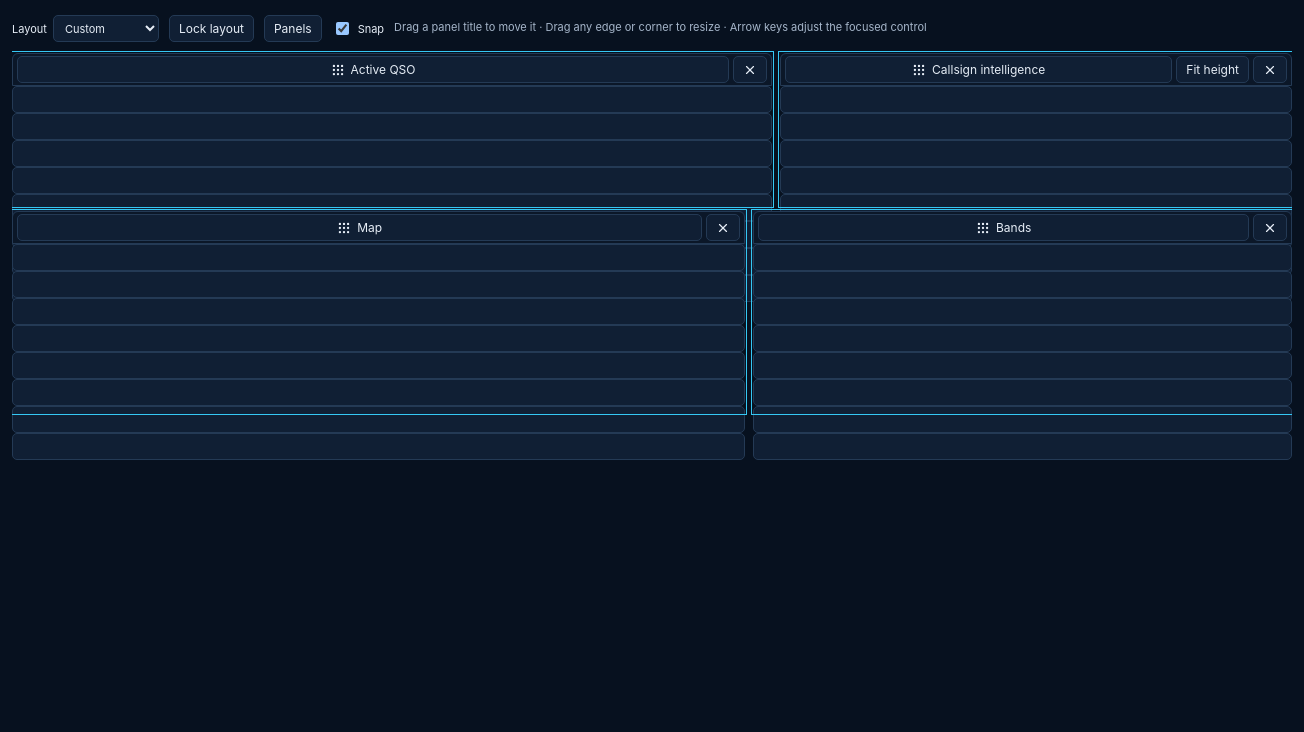
Test: hides and restores a panel, then removes edit handles when locked
Press ArrowRight in the button "Map", box top-left (17, 214), bottom-right (702, 241)
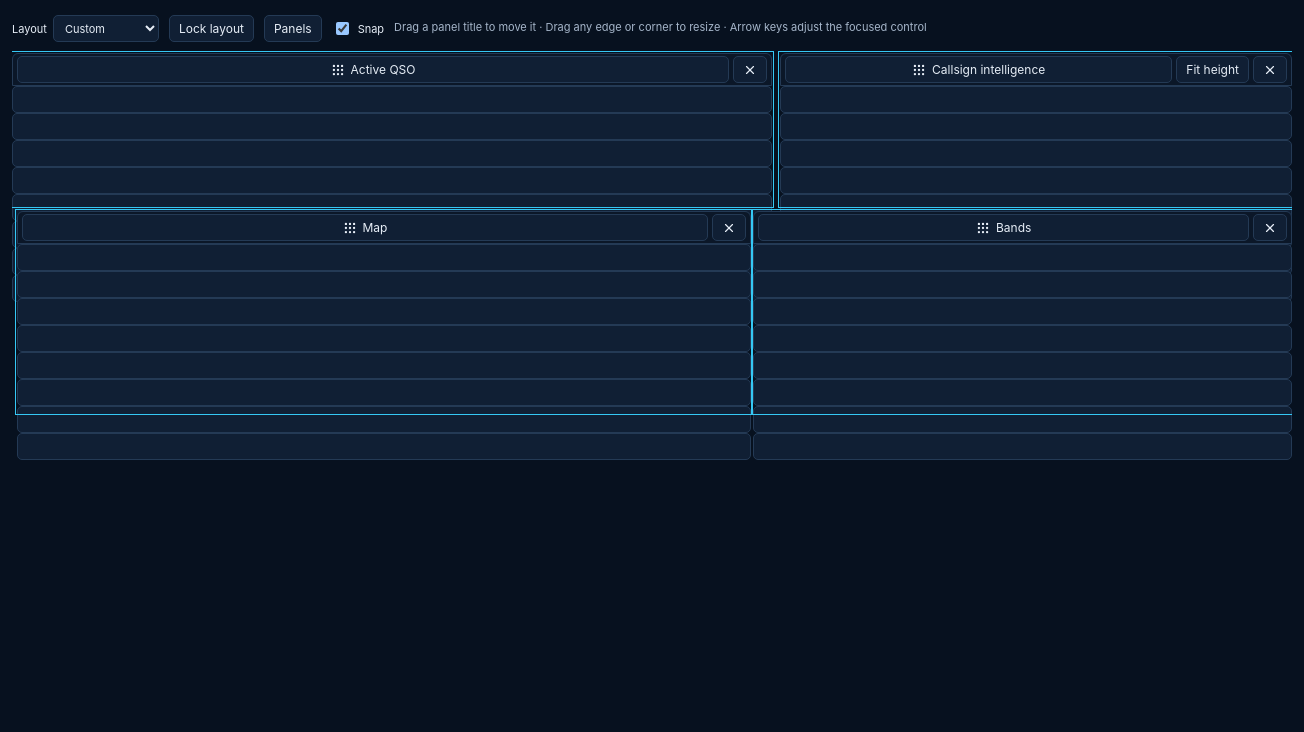
Click the button named "Hide Map": coordinates (729, 228) top-left (712, 214), bottom-right (746, 241)
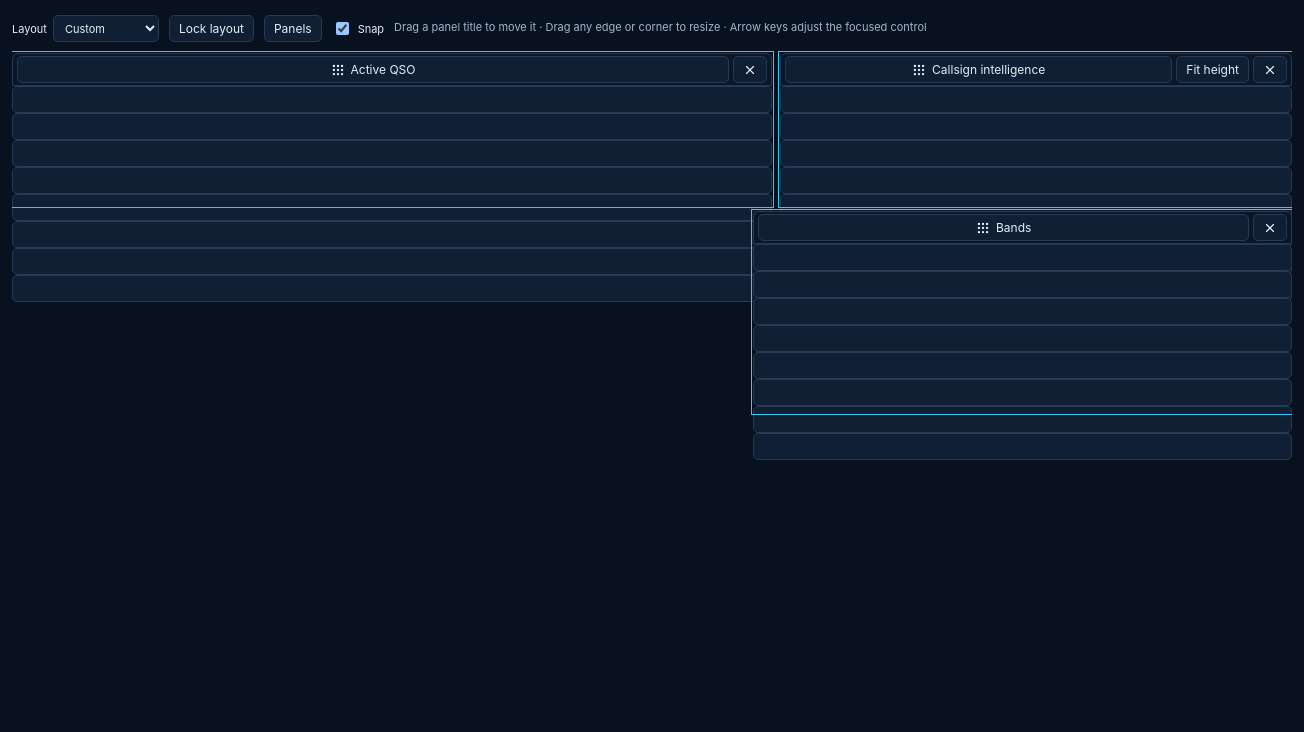
Expected: the text "Map surface" is gone
Click the button "Panels": coordinates (293, 28) top-left (264, 15), bottom-right (322, 42)
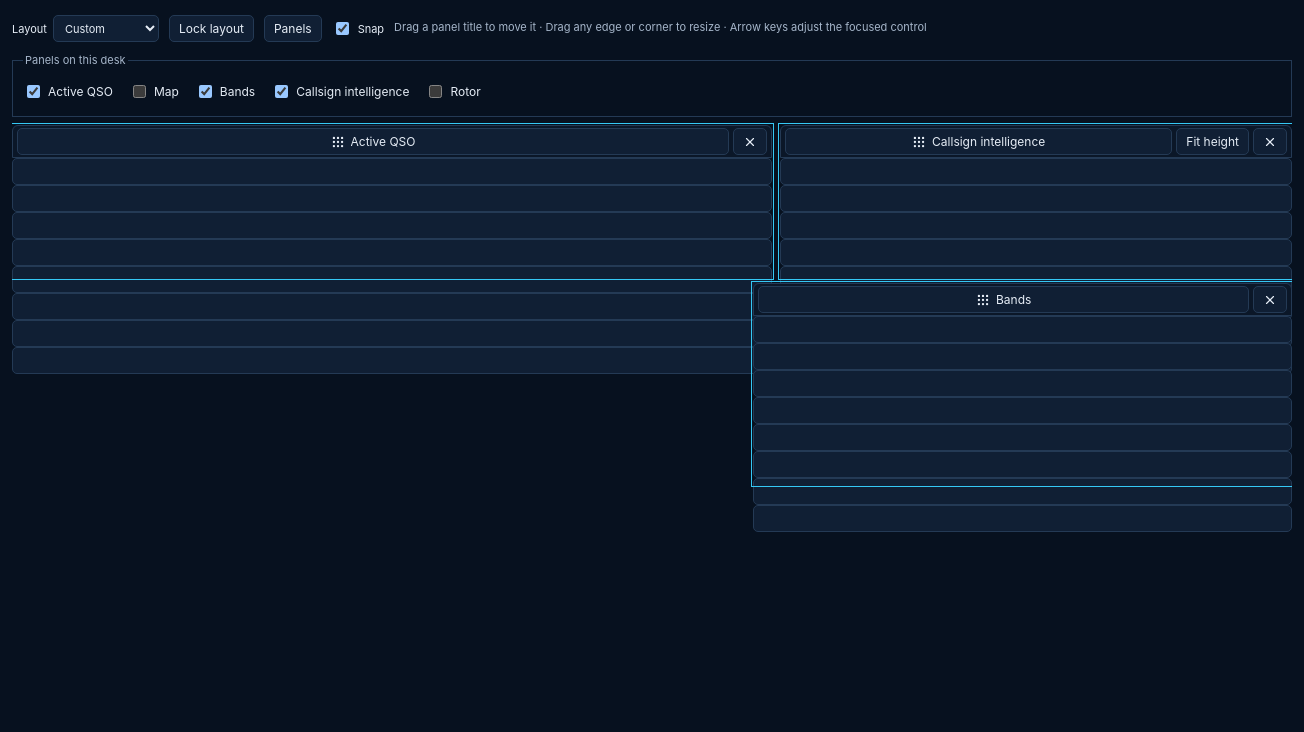
Click the checkbox labelled "Map": coordinates (139, 92) top-left (133, 78), bottom-right (146, 105)
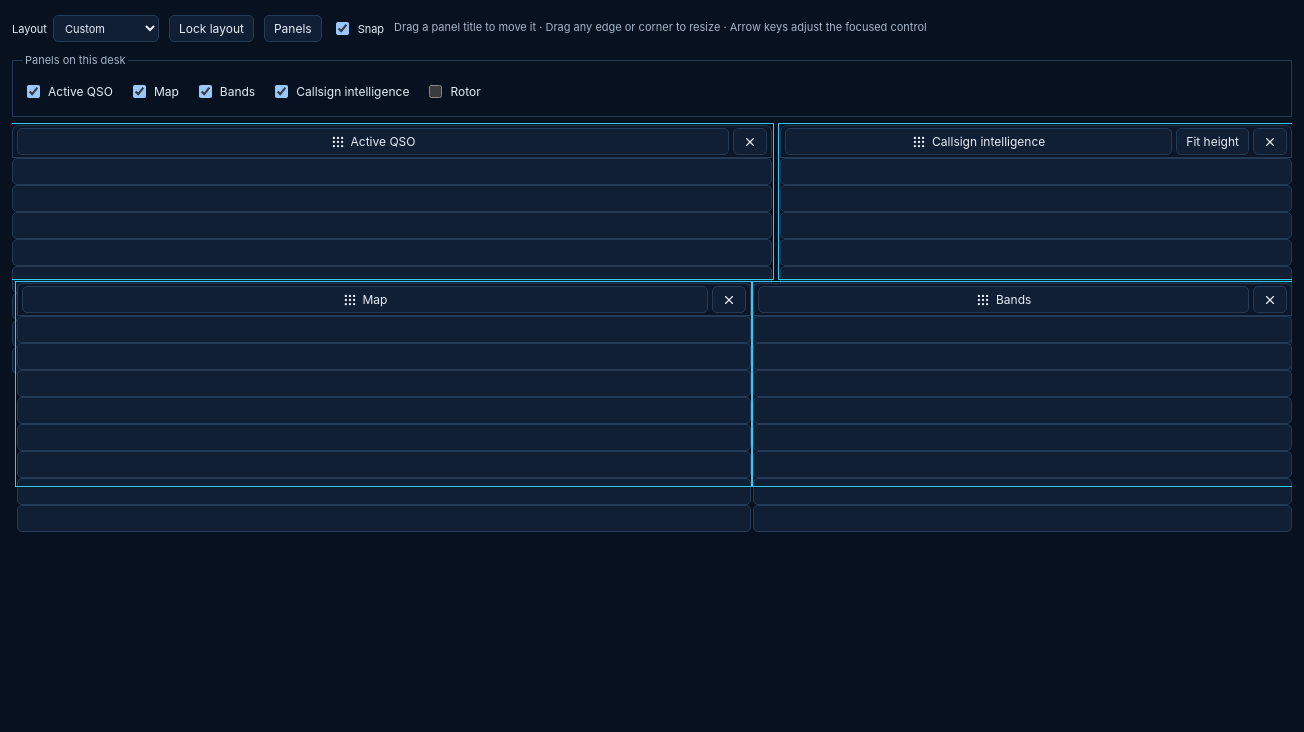
Click the button "Lock layout": coordinates (211, 28) top-left (169, 15), bottom-right (254, 42)
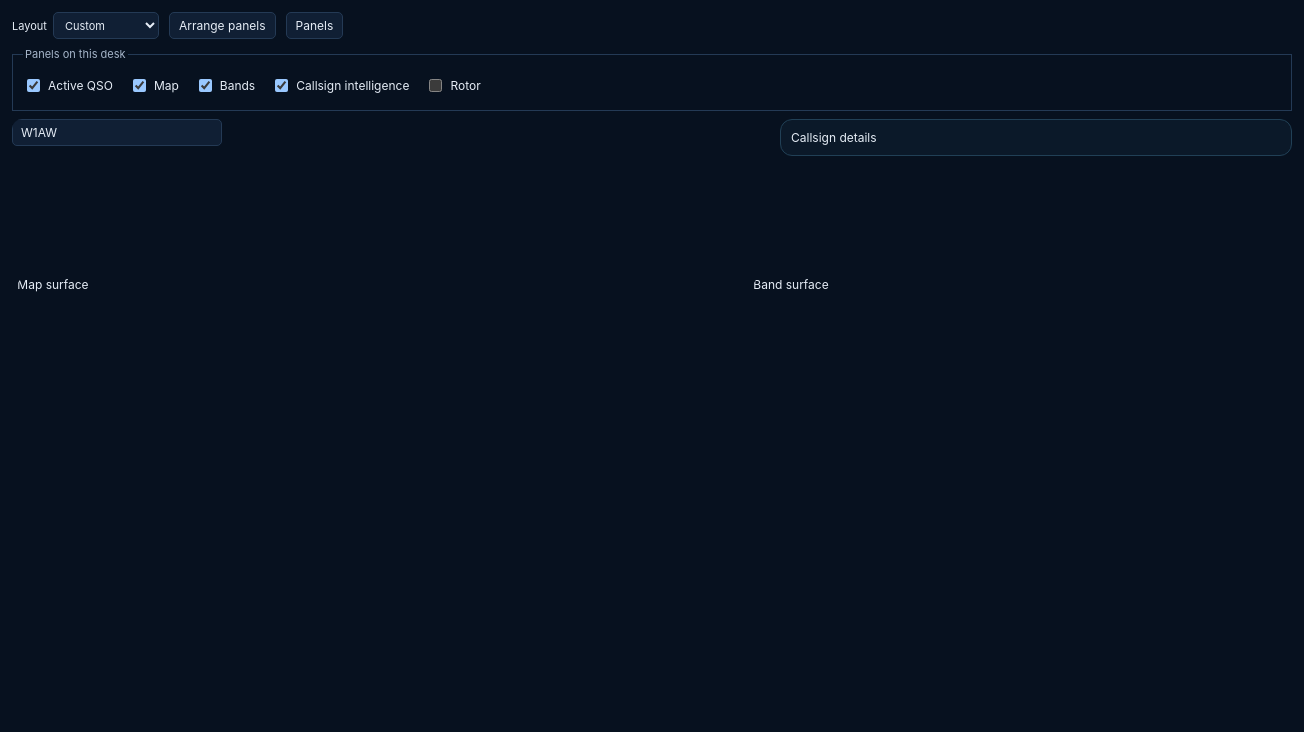
Expected: the button "Arrange panels" is shown, top-left (169, 12), bottom-right (276, 39)
